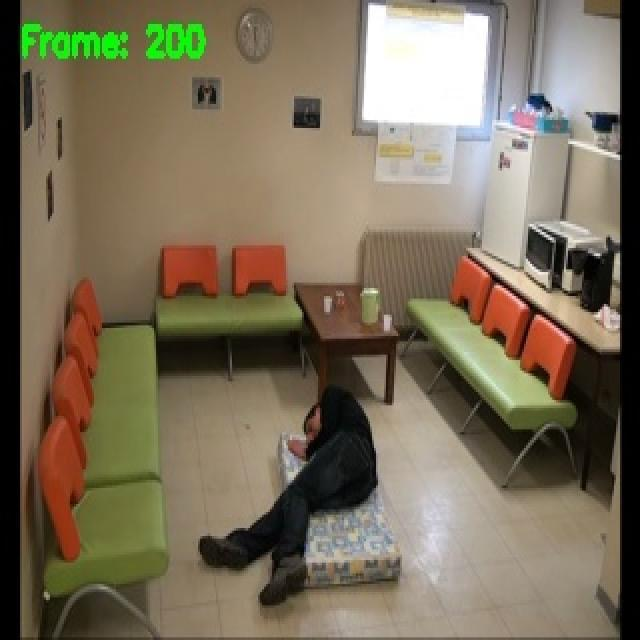fall: (200, 386, 376, 608)
